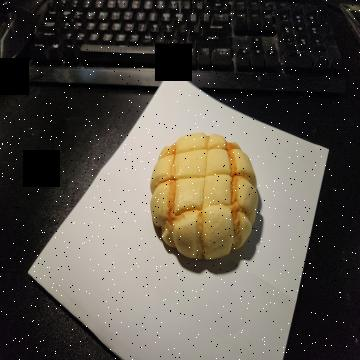melon_bread: (149, 133, 260, 262)
